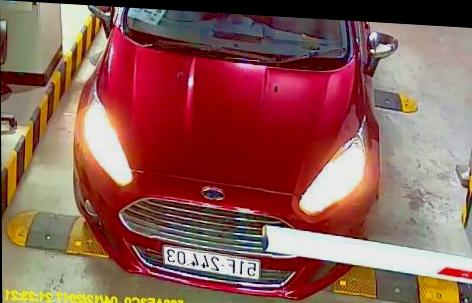License_Plate: (162, 243, 260, 278)
